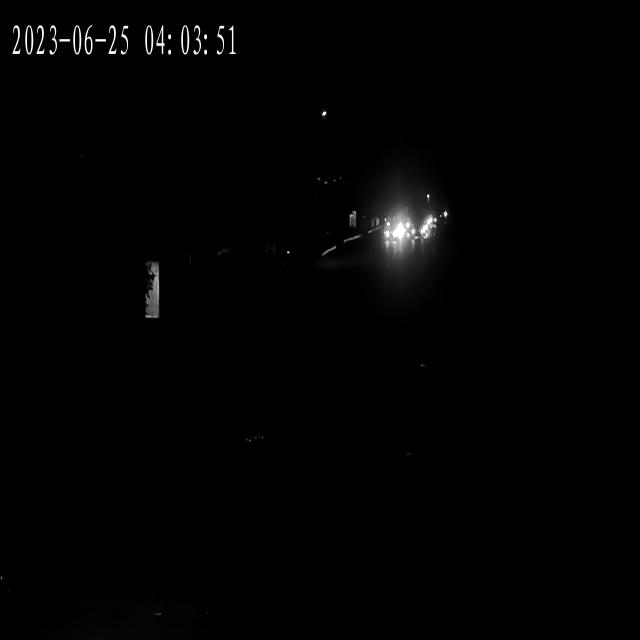Car: (407, 227, 429, 244), (380, 229, 402, 246)
